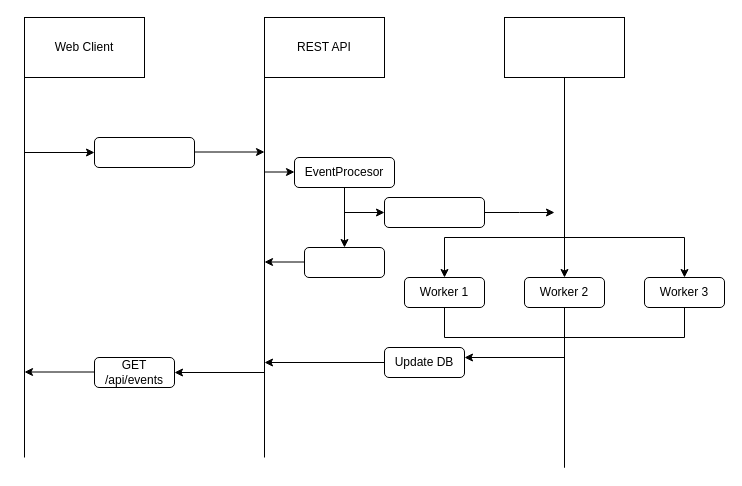
Image size: 742x486. Some labels were removed from this diagram. Each missing label, with the centre of its shape:
"Blocking Queue" goes at [434,212].
"POST /api/events" goes at [144,152].
"Save to DB" goes at [344,262].
"Worker Threads" goes at [564,47].
